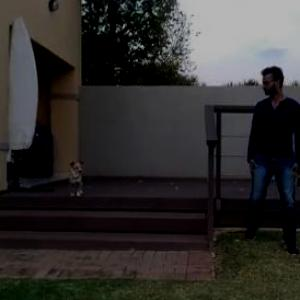follow: (244, 60, 299, 263)
